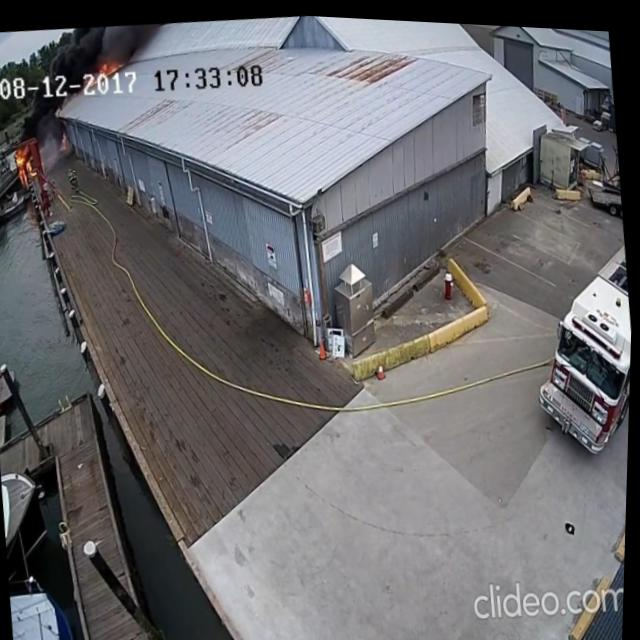fire: (10, 142, 41, 190), (86, 53, 126, 77)
